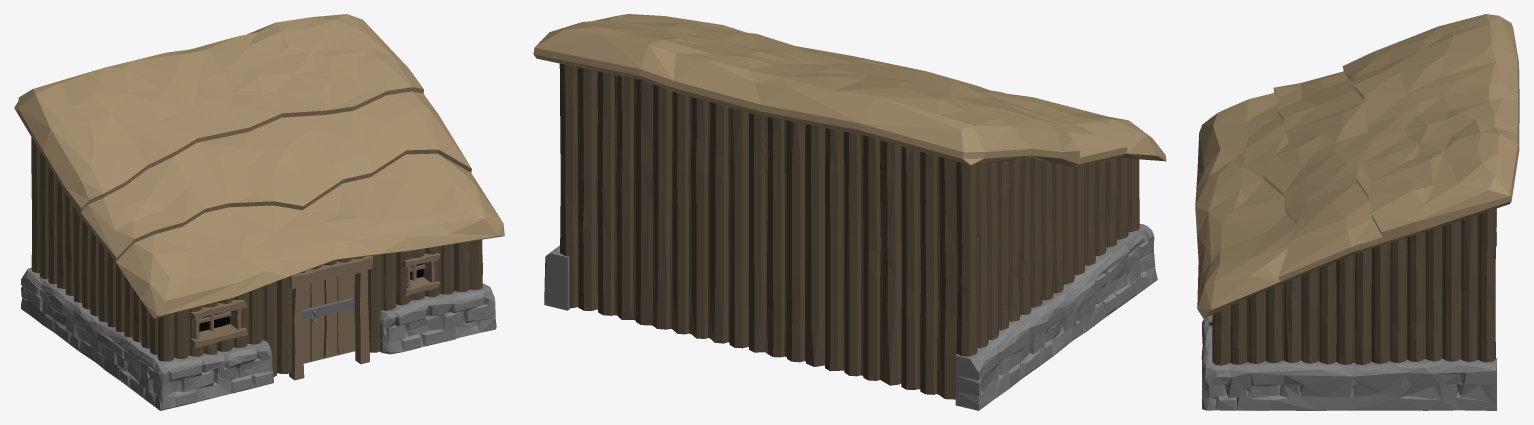
The model's file is village_wood_house_i.FBX.
3 views of the same model, side by side, from view 1: azimuth 30°, elevation 25°; view 2: azimuth 150°, elevation 25°; view 3: azimuth 270°, elevation 25° (orthographic). The views are drawn at different scales.
Parts seen in each view (by area): view 1: village_wood_house_i; view 2: village_wood_house_i; view 3: village_wood_house_i.
Part boxes in pixels (x1,y1,x2,y2): village_wood_house_i: (14,14,504,410); village_wood_house_i: (533,14,1166,410); village_wood_house_i: (1195,14,1519,410).
Size of the model in its own units: 7.73 by 4.71 by 5.74.
